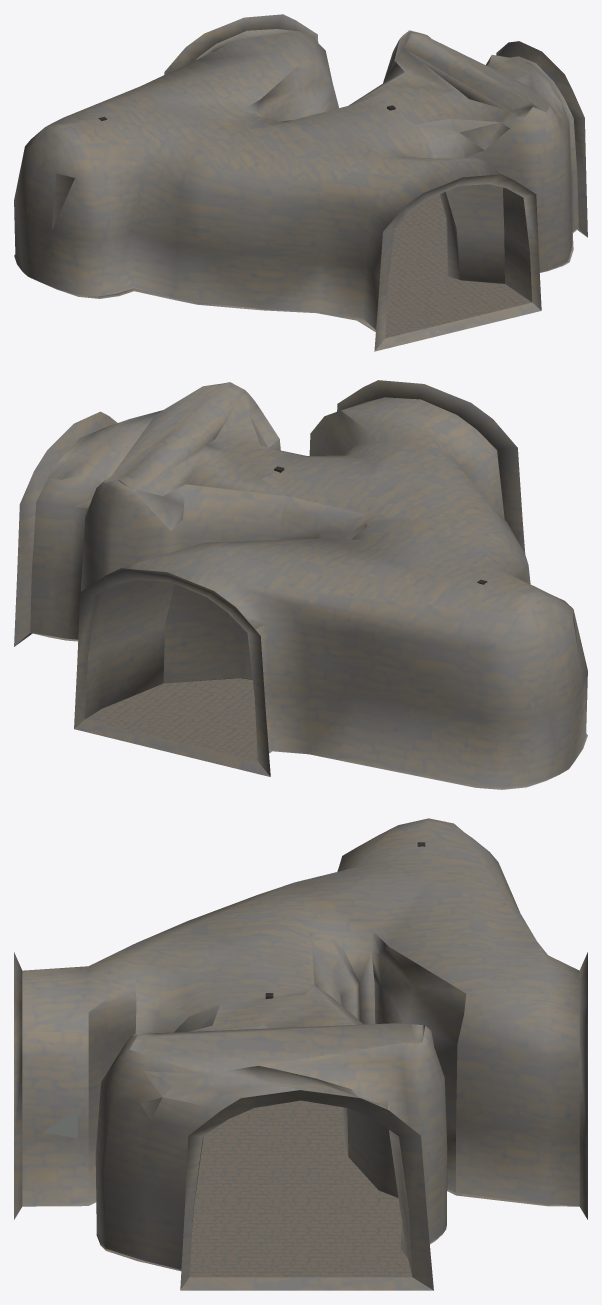
Rendered from R_Tun5.glb.
3 views of the same model, one above another, from view 1: azimuth 30°, elevation 25°; view 2: azimuth 150°, elevation 25°; view 3: azimuth 270°, elevation 25° (orthographic). The views are drawn at different scales.
Visible parts, largest first — view 1: _R_Tun5; view 2: _R_Tun5; view 3: _R_Tun5.
Part boxes in pixels (x1,y1,x2,y2): _R_Tun5: (14,14,587,351); _R_Tun5: (14,380,587,789); _R_Tun5: (14,818,587,1290).
Size of the model in its own units: 12.76 by 4.17 by 10.3.
4 materials, 4 textured.
